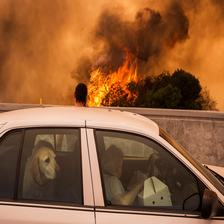fire: (20, 20, 199, 122)
